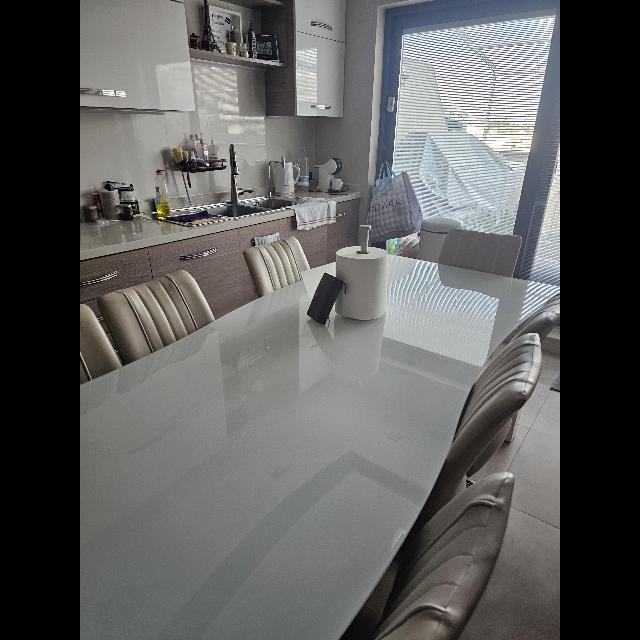Wallet: (308, 273, 344, 325)
